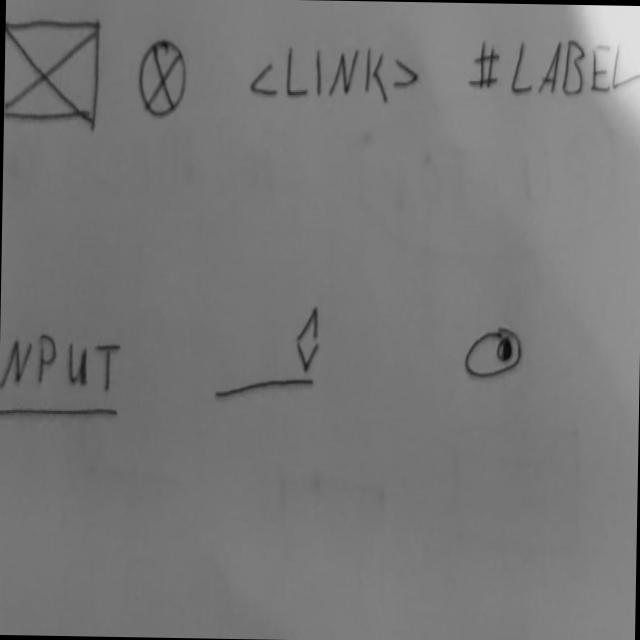image: (5, 14, 105, 131), (138, 36, 190, 121)
input: (1, 329, 125, 425)
label: (469, 32, 640, 106)
link: (248, 39, 423, 109)
number-input: (211, 300, 326, 407)
toggle: (464, 324, 526, 382)
